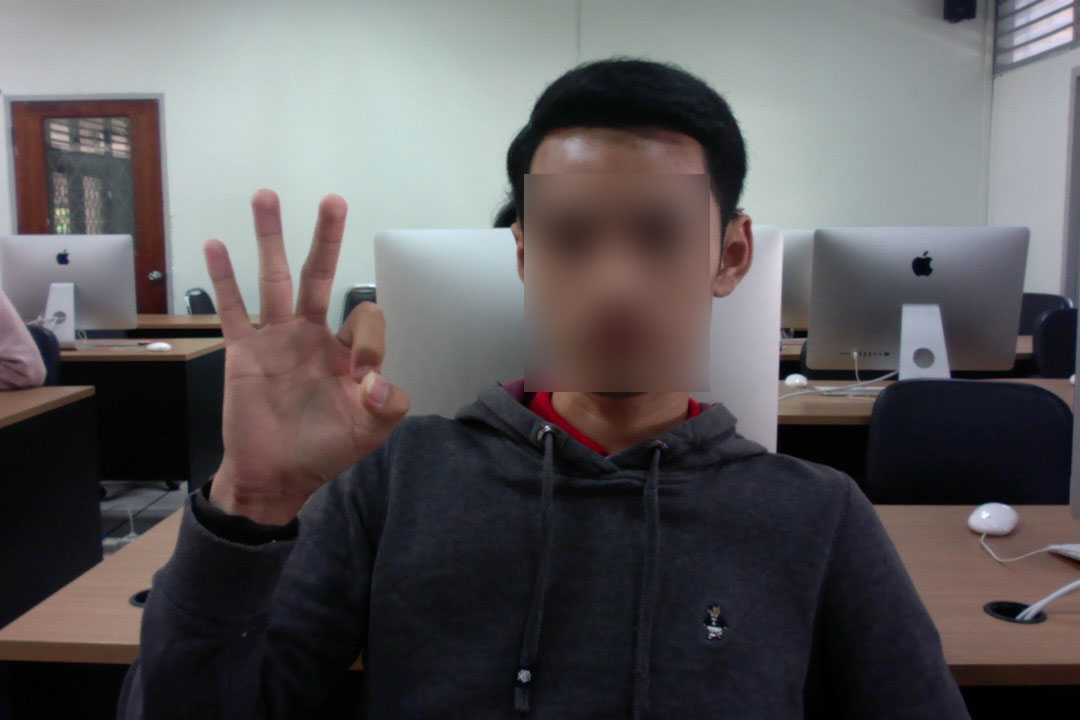for: (167, 157, 420, 529)
